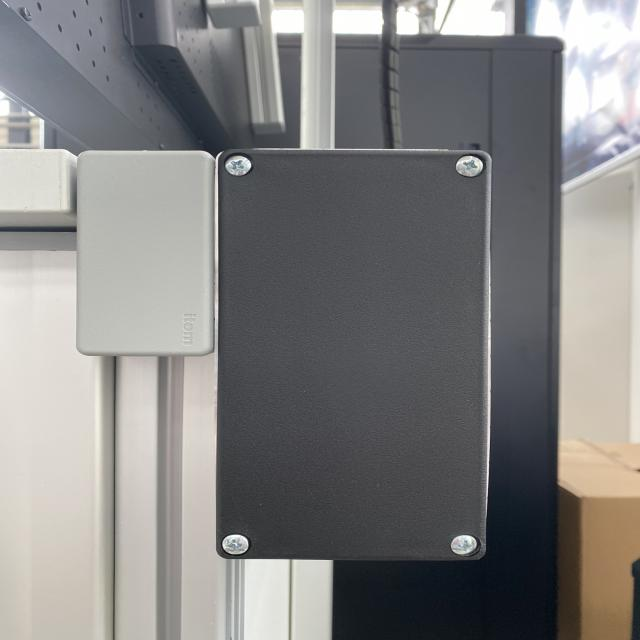PhillipsScrewHead: (455, 154, 484, 178), (222, 534, 250, 556), (451, 534, 479, 556), (225, 156, 252, 176)
